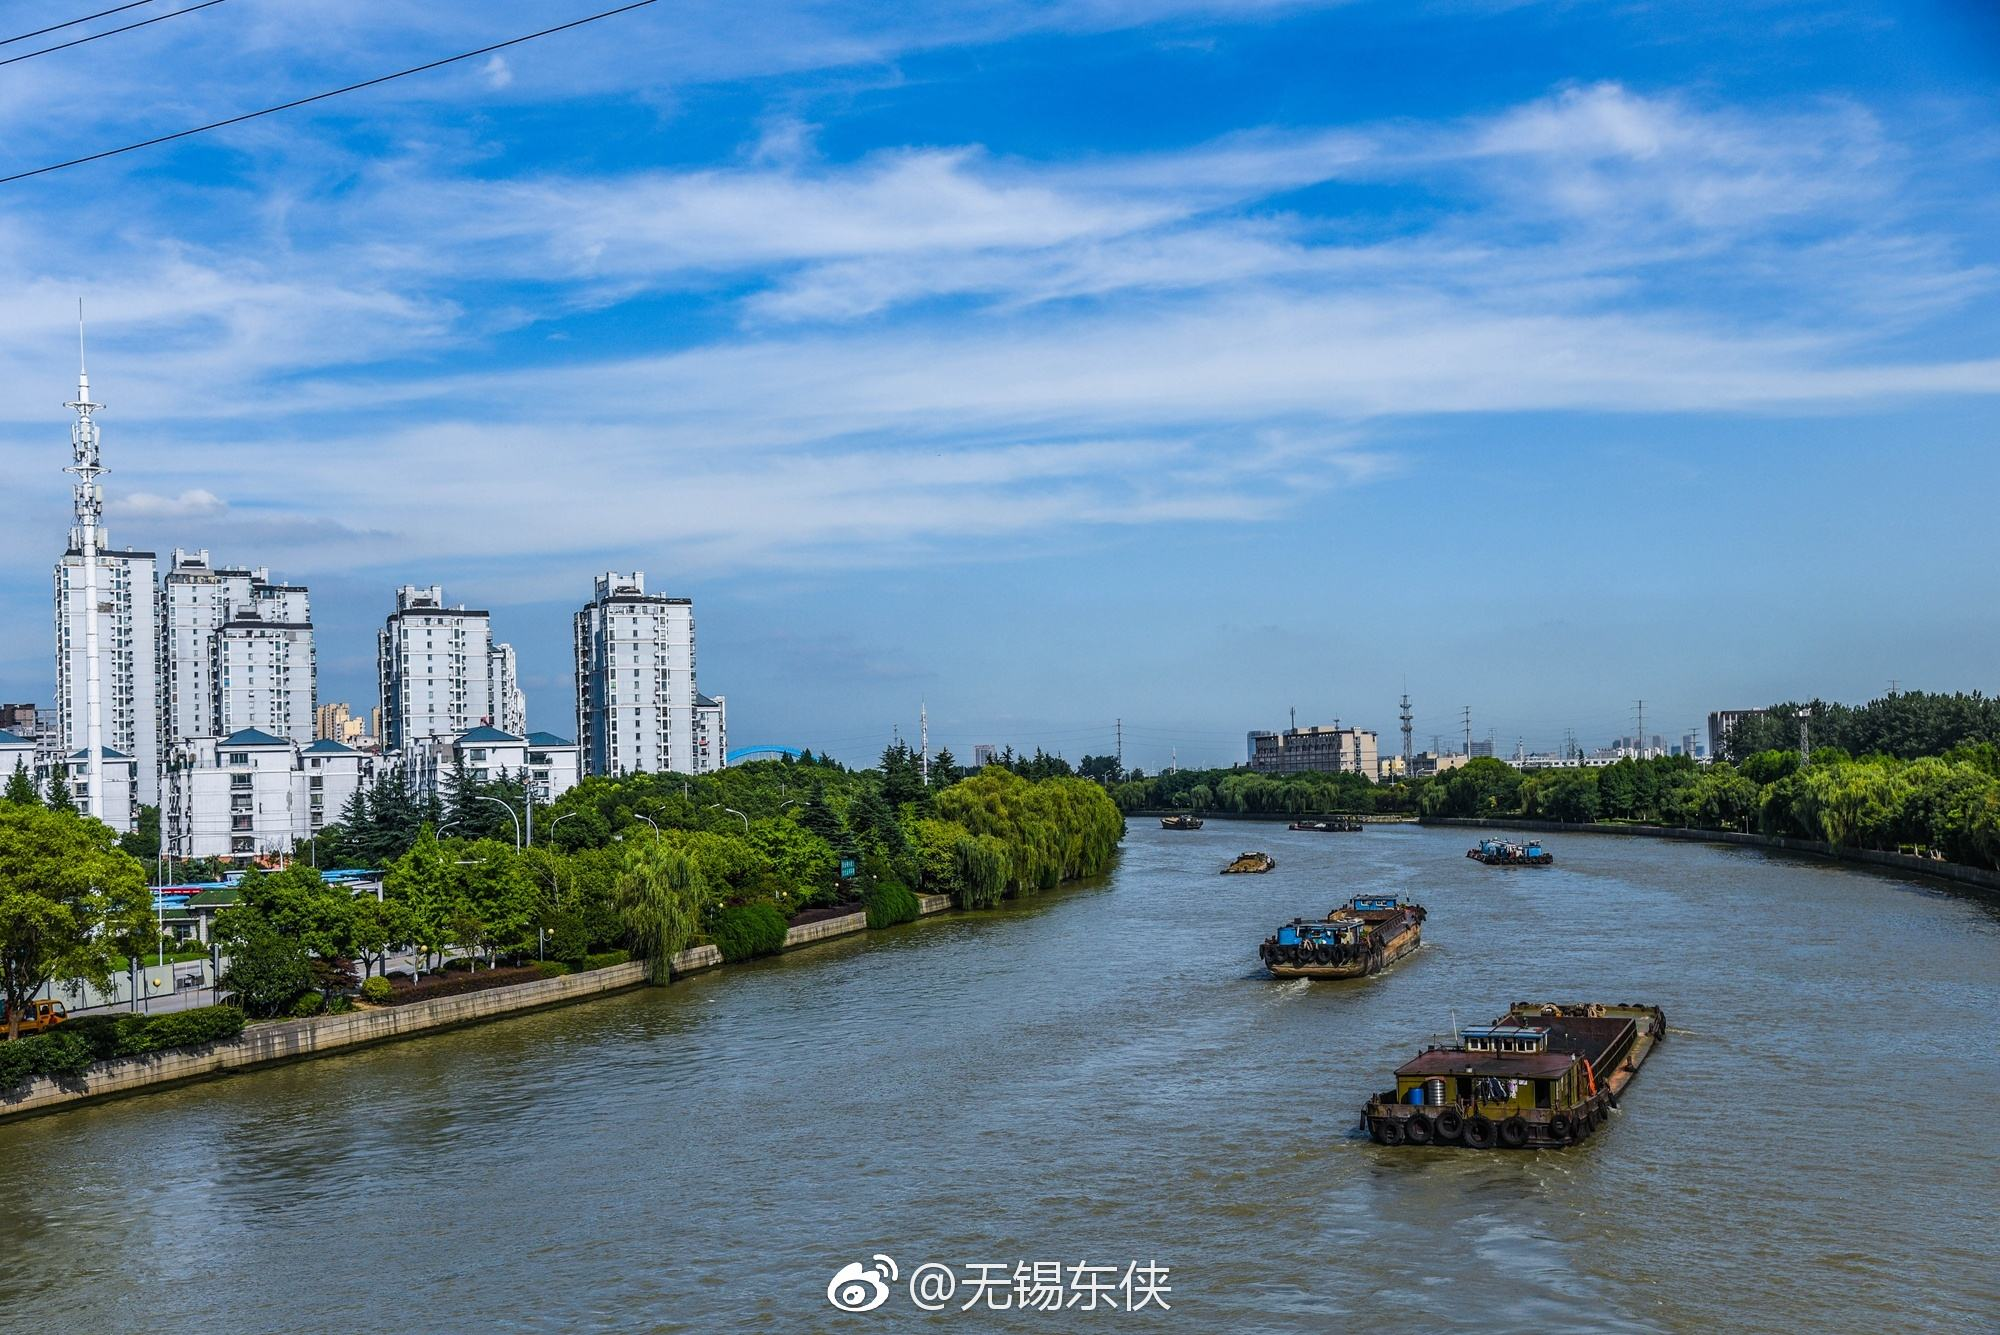boat: (1379, 1007, 1666, 1132), (1261, 892, 1427, 980), (1462, 834, 1568, 866), (1205, 848, 1281, 878), (1281, 814, 1380, 831), (1156, 816, 1214, 833)
